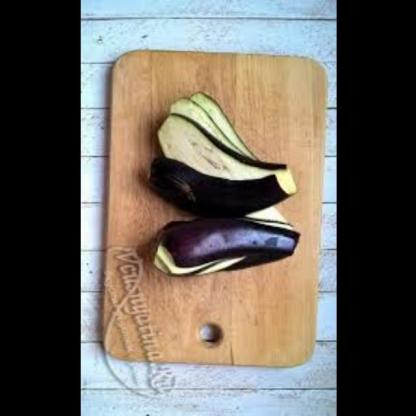eggplant: (143, 100, 313, 219), (143, 200, 310, 298)
